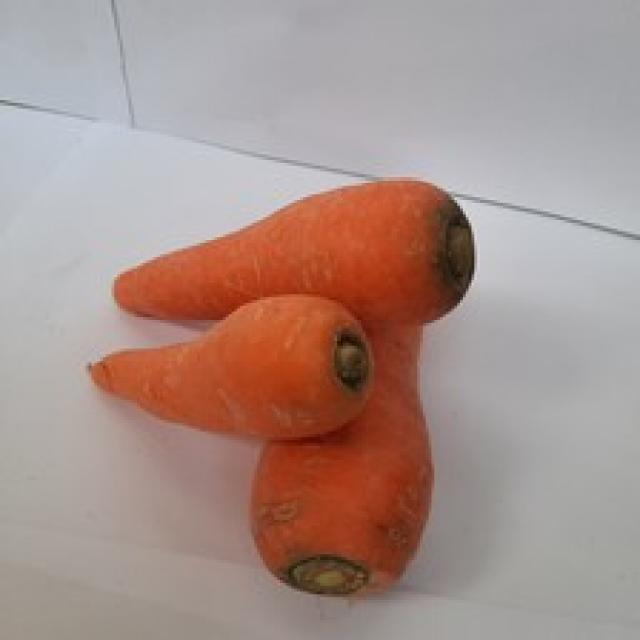Carrot: (114, 180, 474, 323), (251, 322, 432, 594), (91, 295, 371, 439)
